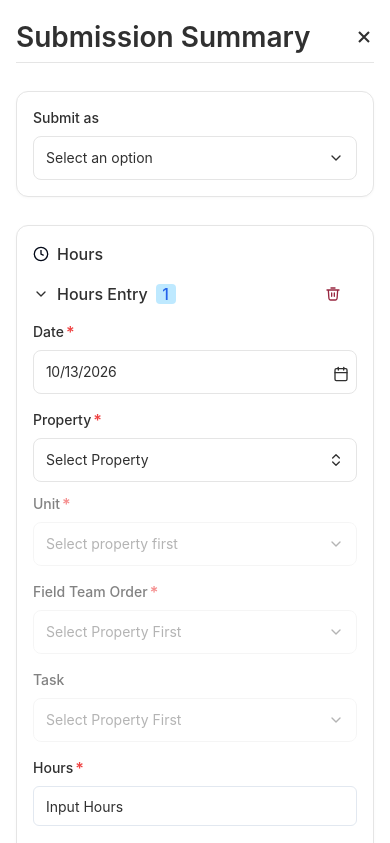
Scenario: FtoSubmissionForm — Field Team Order rename + new Task field › prefills the Task field from the task the selected FTO already links to
Check: the text "Property" is shown, box [33,410,91,430]
Click the button "Select Property" at (97, 460), box [33,438,357,482]
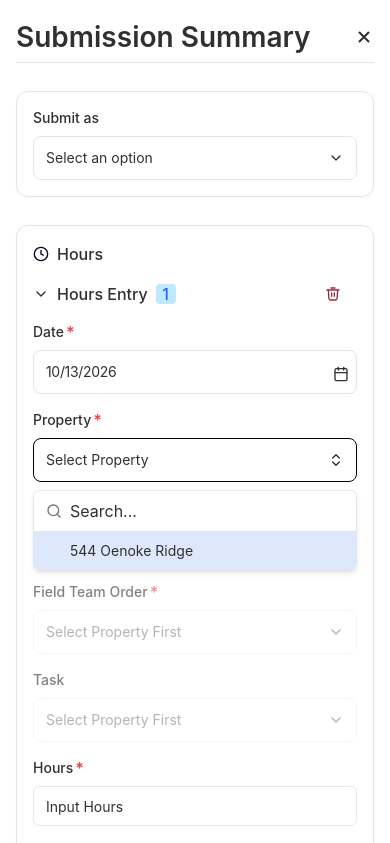
Click the button "544 Oenoke Ridge" at (195, 550), box [34,532,356,569]
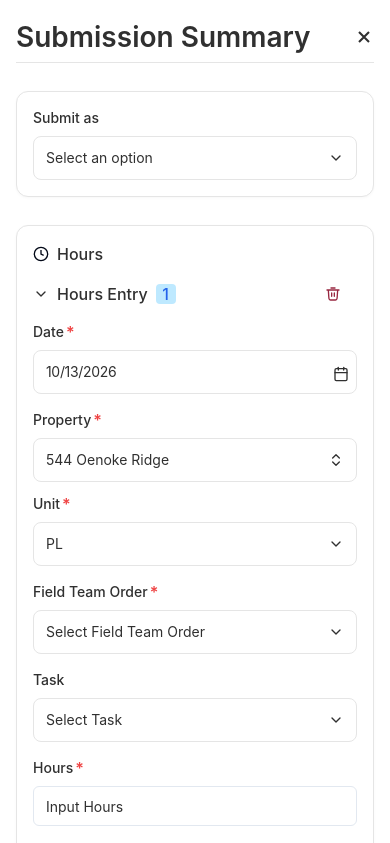
Click the button "Select Field Team Order" at (195, 632), box [33,610,357,654]
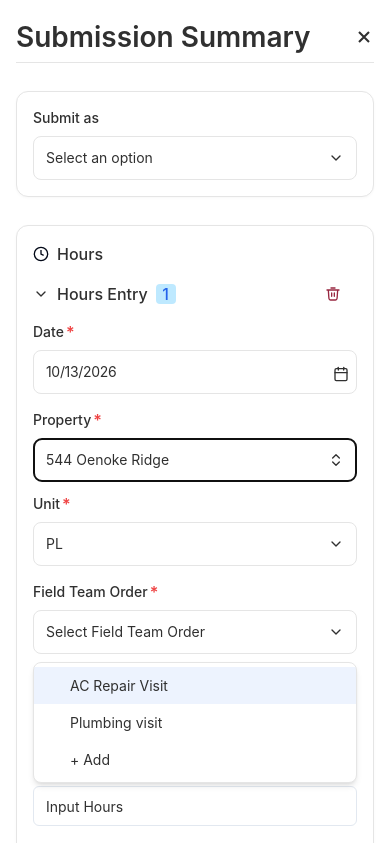
Click the button "AC Repair Visit" at (119, 686), box [34,667,356,704]
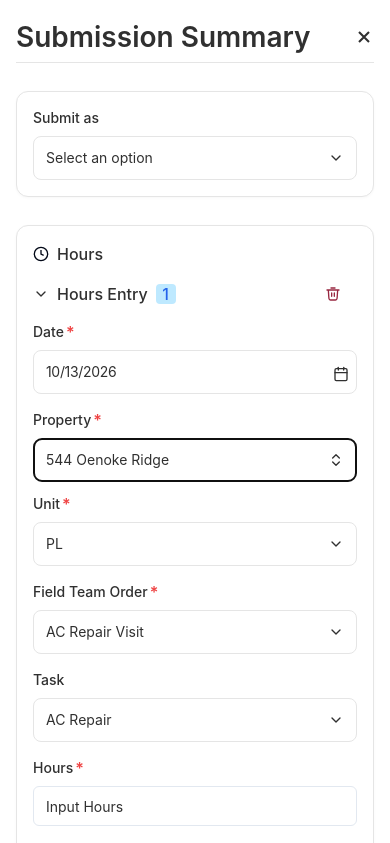
Check: the button "AC Repair" is shown, box [33,698,357,742]
